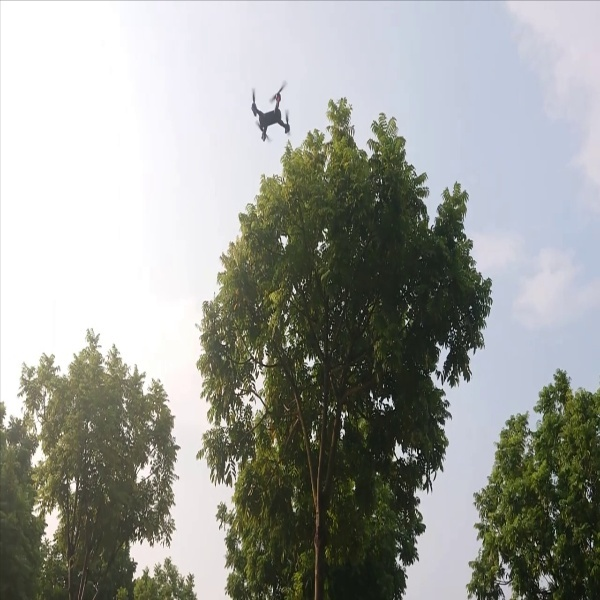drone: (244, 81, 297, 148)
